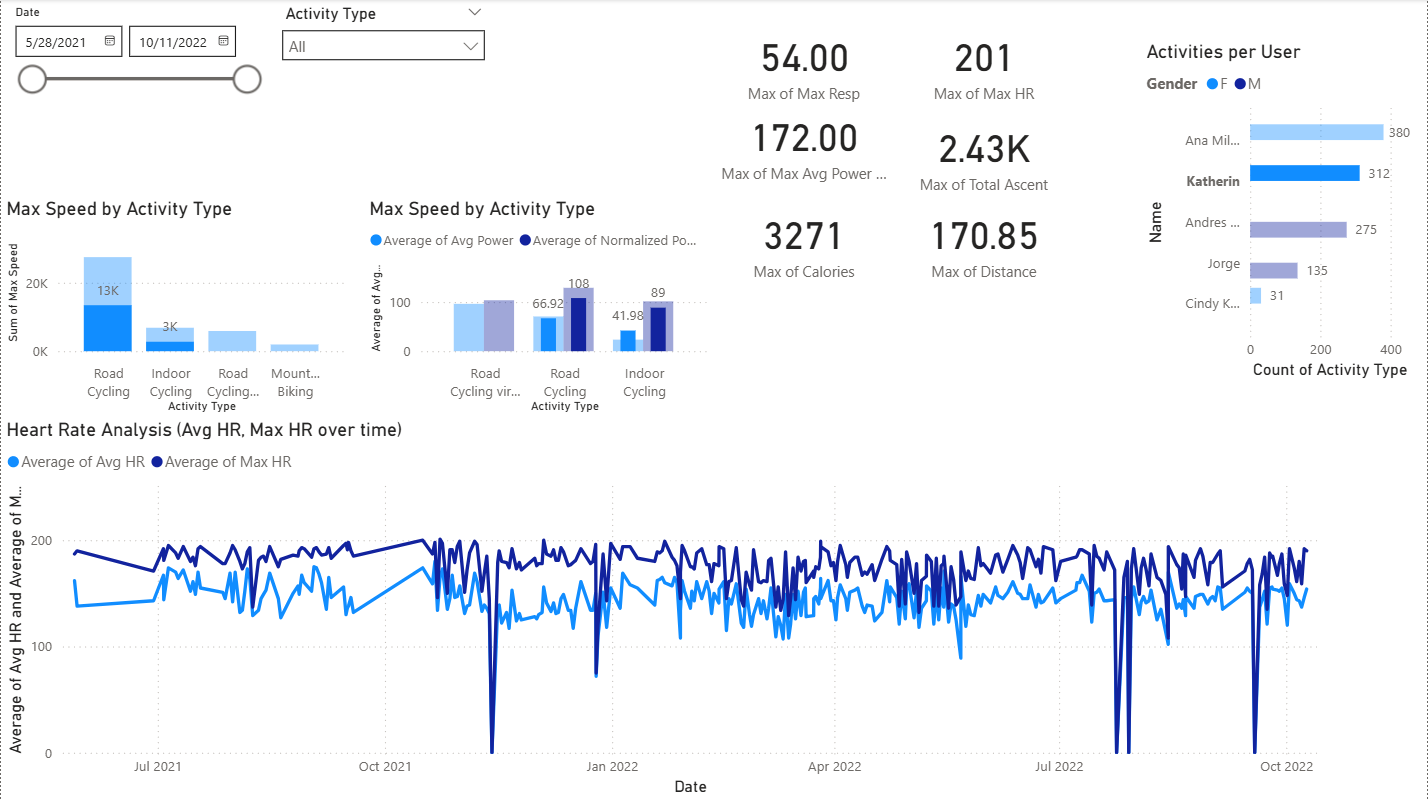

What the dashboard file says about the page in this screenshot:
{"tool":"powerbi","page":{"name":"Page 3 Performance Insights","canvas":[1280,720],"ordinal":2},"visuals":[{"type":"slicer","fields":{"Values":["BBDD.Date"]},"box":[0,0,242.4,98.8],"z":0},{"type":"slicer","fields":{"Values":["BBDD.Activity Type"]},"box":[242.4,0,202,73.6],"z":1000},{"type":"lineChart","title":"Heart Rate Analysis (Avg HR, Max HR over time)","fields":{"Y":["Avg(BBDD.Avg HR)","Avg(BBDD.Max HR)"],"Category":["BBDD.Date"]},"box":[0,376.2,1201.2,343.8],"z":2000},{"type":"columnChart","title":" Max Speed by Activity Type","fields":{"Y":["Sum(BBDD.Max Speed)"],"Category":["BBDD.Activity Type"]},"box":[0,177.8,314.2,198.4],"z":3000},{"type":"clusteredBarChart","title":"Activities per User","fields":{"Category":["dimUser.Name"],"Series":["dimUser.Gender"],"Y":["CountNonNull(BBDD.Activity Type)"]},"box":[1023.2,36.8,256.8,308.8],"z":4000},{"type":"clusteredColumnChart","title":" Max Speed by Activity Type","fields":{"Category":["BBDD.Activity Type"],"Y":["Avg(BBDD.Avg Power)","Avg(BBDD.Normalized Power® (NP®))"]},"box":[325.9,177.8,314.2,198.4],"z":5000},{"type":"card","fields":{"Values":["Max(BBDD.Max Avg Power (20 min))"]},"box":[640,89.5,161.5,81.7],"z":6000},{"type":"card","fields":{"Values":["Max(BBDD.Max Resp)"]},"box":[640,17.5,161.5,81.7],"z":7000},{"type":"card","fields":{"Values":["Max(BBDD.Max HR)"]},"box":[801.5,17.5,161.5,81.7],"z":8000},{"type":"card","fields":{"Values":["Max(BBDD.Calories)"]},"box":[640,178,161.5,81.7],"z":9000},{"type":"card","fields":{"Values":["Max(BBDD.Total Ascent)"]},"box":[801.5,99.2,161.5,81.7],"z":10000},{"type":"card","fields":{"Values":["Max(BBDD.Distance)"]},"box":[801.5,178,161.5,81.7],"z":11000}]}

Visuals, with their boxes in screenshot pixels (x1, y1, x2, y2), scaled from the page's 1280x720 canvas onto the 1428x800 screenshot:
slicer - BBDD.Date: bbox(0, 0, 270, 110)
slicer - BBDD.Activity Type: bbox(270, 0, 496, 82)
"Heart Rate Analysis (Avg HR, Max HR over time)" lineChart: bbox(0, 418, 1340, 799)
" Max Speed by Activity Type" columnChart: bbox(0, 198, 351, 418)
"Activities per User" clusteredBarChart: bbox(1142, 41, 1427, 384)
" Max Speed by Activity Type" clusteredColumnChart: bbox(364, 198, 714, 418)
card - Max(BBDD.Max Avg Power (20 min)): bbox(714, 99, 894, 190)
card - Max(BBDD.Max Resp): bbox(714, 19, 894, 110)
card - Max(BBDD.Max HR): bbox(894, 19, 1074, 110)
card - Max(BBDD.Calories): bbox(714, 198, 894, 289)
card - Max(BBDD.Total Ascent): bbox(894, 110, 1074, 201)
card - Max(BBDD.Distance): bbox(894, 198, 1074, 289)
